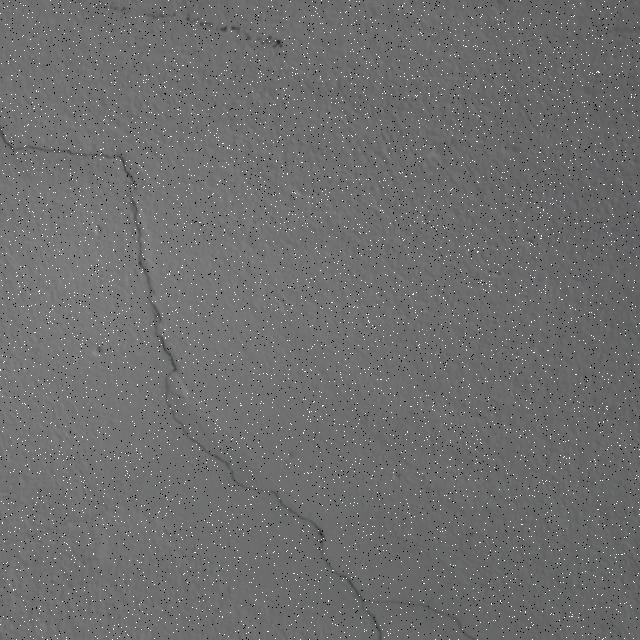minor crack: (237, 476, 324, 533), (112, 151, 136, 178)
moderate crack: (160, 394, 281, 502), (128, 178, 174, 367), (376, 592, 480, 633), (335, 573, 384, 633), (206, 18, 283, 46), (0, 122, 16, 151)
severe crack: (7, 125, 410, 634), (354, 446, 630, 634), (6, 127, 134, 170), (144, 293, 166, 332), (310, 522, 329, 549)
